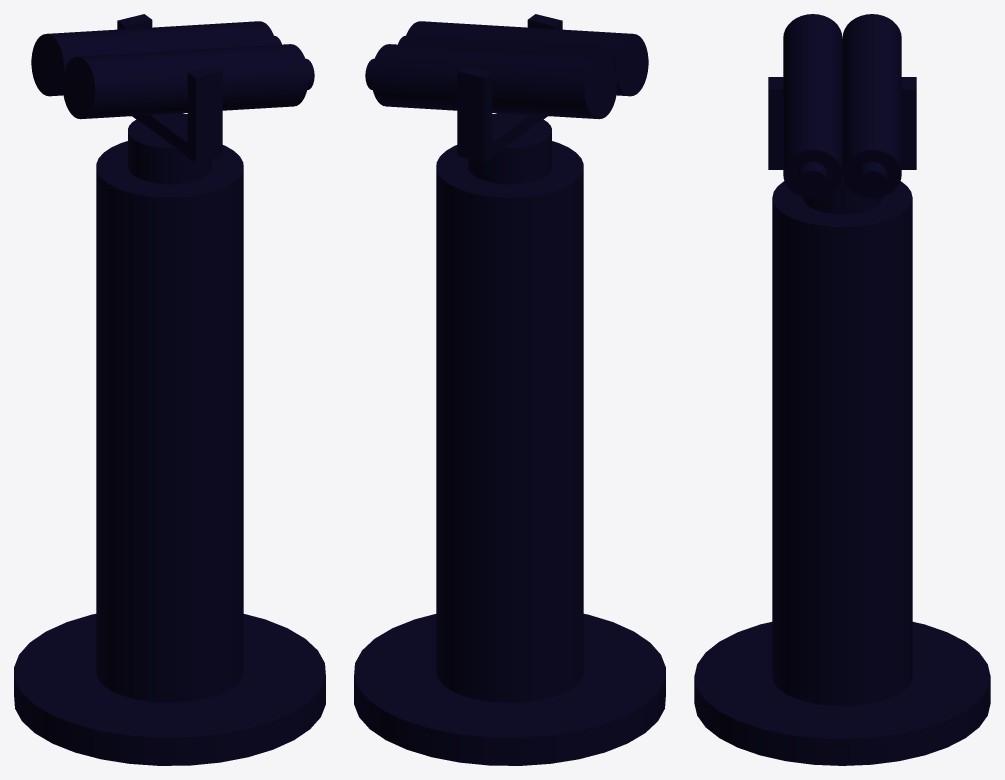
File: Binocolo.fbx
3 renders of one model, left to right at view 1: azimuth 30°, elevation 25°; view 2: azimuth 150°, elevation 25°; view 3: azimuth 270°, elevation 25°, orthographic. The views are drawn at different scales.
Parts seen in each view (by area): view 1: Binocolo_Belvedere; view 2: Binocolo_Belvedere; view 3: Binocolo_Belvedere.
Part boxes in pixels (box(x1,y1,x2,y2)): Binocolo_Belvedere: box(14, 14, 325, 765); Binocolo_Belvedere: box(354, 14, 665, 765); Binocolo_Belvedere: box(694, 14, 990, 765).
Bounding box in the file's own units: 200 × 478 × 200.
